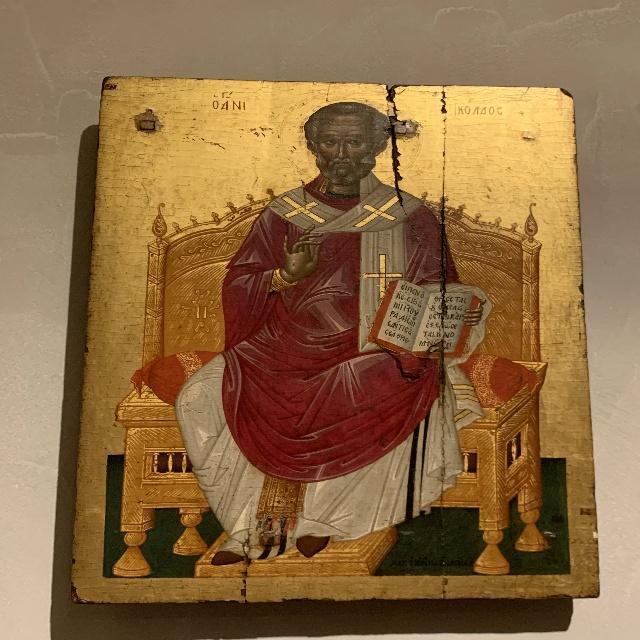book: (370, 290, 477, 356)
cross: (351, 192, 407, 231), (365, 254, 402, 298), (276, 194, 326, 226)
hand: (259, 222, 329, 297)
saint: (166, 101, 488, 565)
